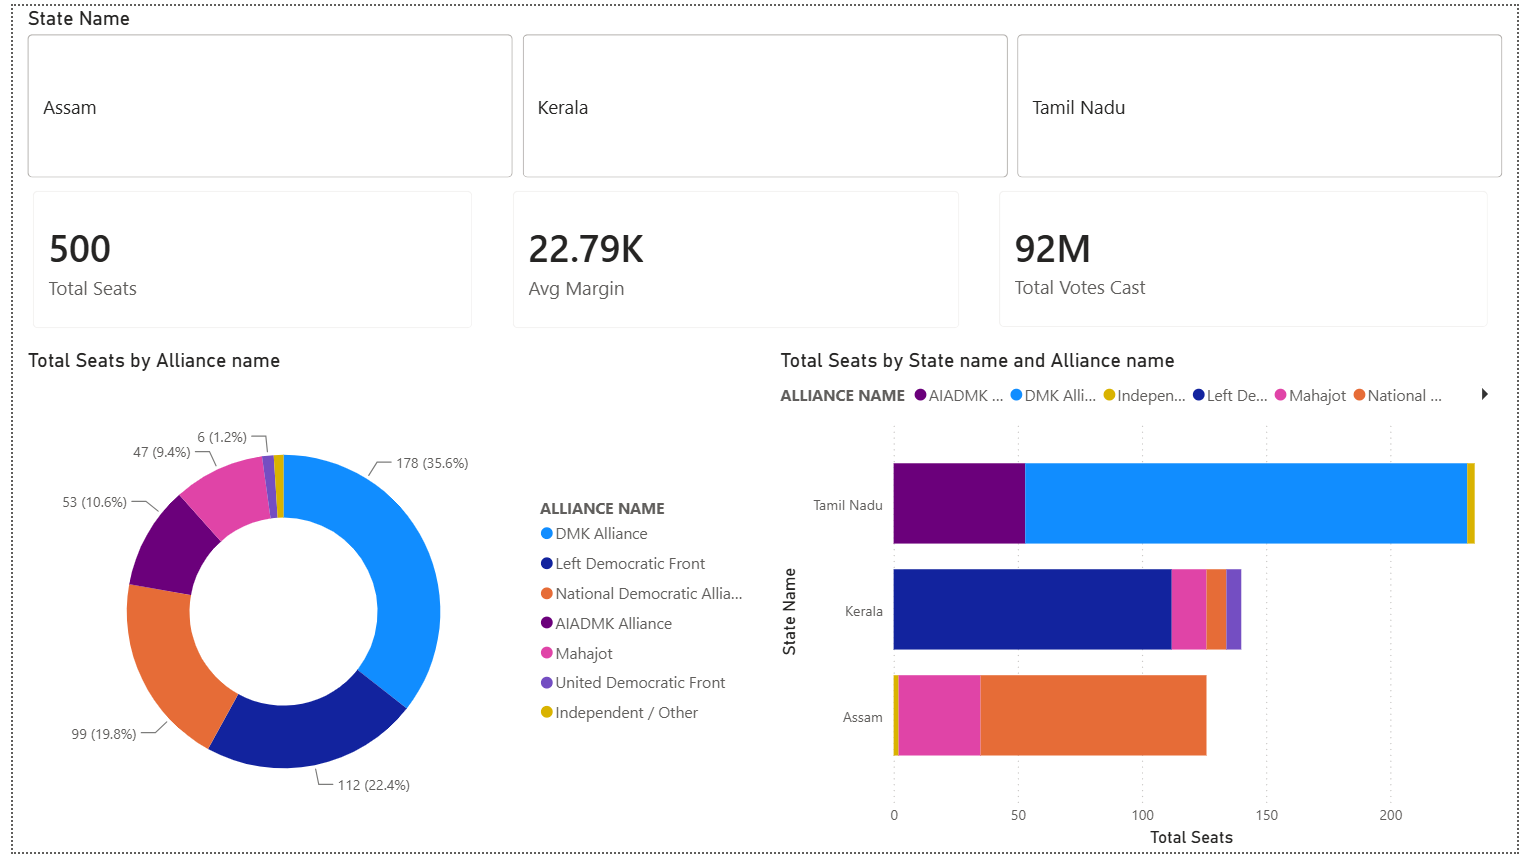

This screenshot's page, from the dashboard's own definition file:
{"tool":"powerbi","page":{"name":"Overview","canvas":[1280,720],"ordinal":0},"visuals":[{"type":"cardVisual","fields":{"Data":["Sheet1.Total Seats"]},"box":[0,140,408,151],"z":0},{"type":"cardVisual","fields":{"Data":["Sheet1.Avg Margin"]},"box":[408,140,414,151],"z":1000},{"type":"cardVisual","fields":{"Data":["Sheet1.Total Votes Cast"]},"box":[821.9,140,450,151],"z":2000},{"type":"advancedSlicerVisual","title":"State Name","fields":{"Values":["Sheet1.State_Name"]},"box":[7.5,0,1265,151.2],"z":3000},{"type":"donutChart","title":"Total Seats by Alliance name","fields":{"Category":["Sheet1.ALLIANCE_NAME"],"Y":["Sheet1.Total Seats"]},"box":[7,291,633,429],"z":4000},{"type":"barChart","title":"Total Seats by State name and Alliance name","fields":{"Category":["Sheet1.State_Name"],"Y":["Sheet1.Total Seats"],"Series":["Sheet1.ALLIANCE_NAME"]},"box":[648,291,624,429],"z":5000}]}

Visuals, with their boxes in screenshot pixels (x1, y1, x2, y2), scaled from the page's 1280x720 canvas onto the 1526x854 screenshot:
cardVisual - Sheet1.Total Seats: <region>0, 166, 486, 345</region>
cardVisual - Sheet1.Avg Margin: <region>486, 166, 980, 345</region>
cardVisual - Sheet1.Total Votes Cast: <region>980, 166, 1516, 345</region>
"State Name" advancedSlicerVisual: <region>9, 0, 1517, 179</region>
"Total Seats by Alliance name" donutChart: <region>8, 345, 763, 853</region>
"Total Seats by State name and Alliance name" barChart: <region>773, 345, 1516, 853</region>
